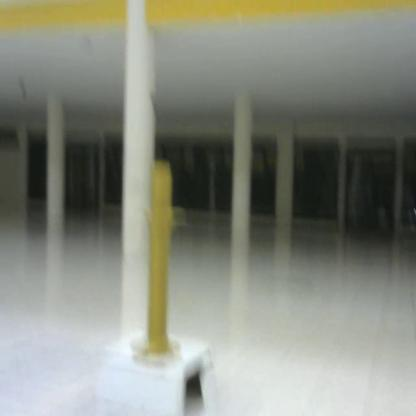pole: (129, 159, 196, 363)
